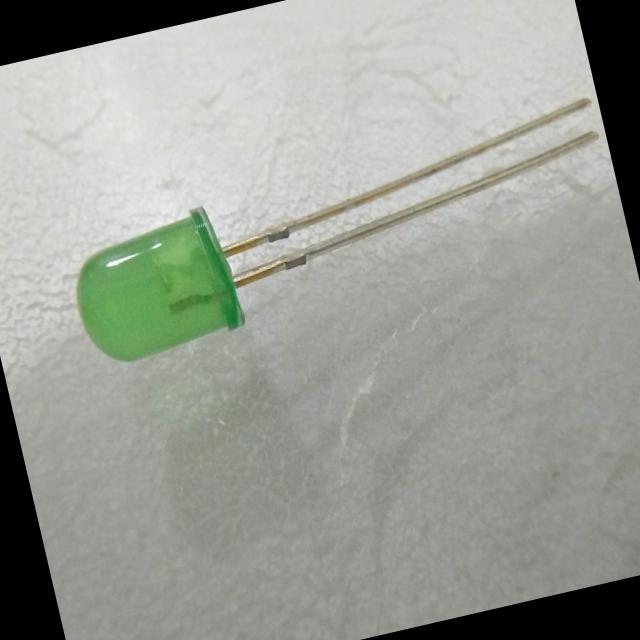green_led: (52, 188, 256, 374)
